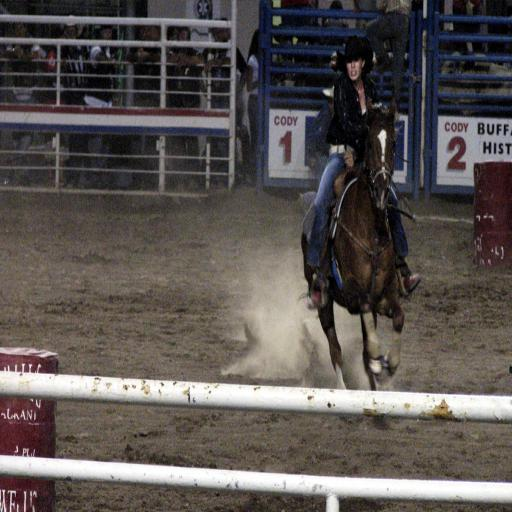Horse: (302, 92, 406, 392)
